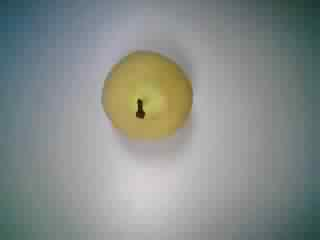pear: (87, 45, 202, 150)
